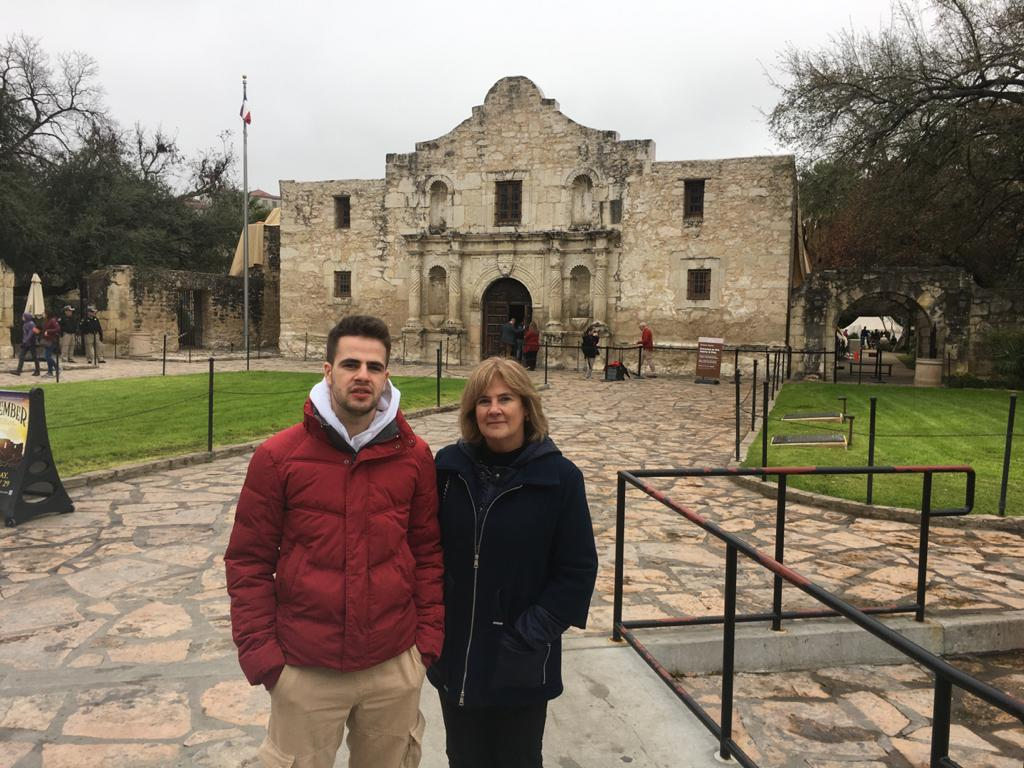Persona: (221, 309, 445, 768), (427, 358, 598, 768)
